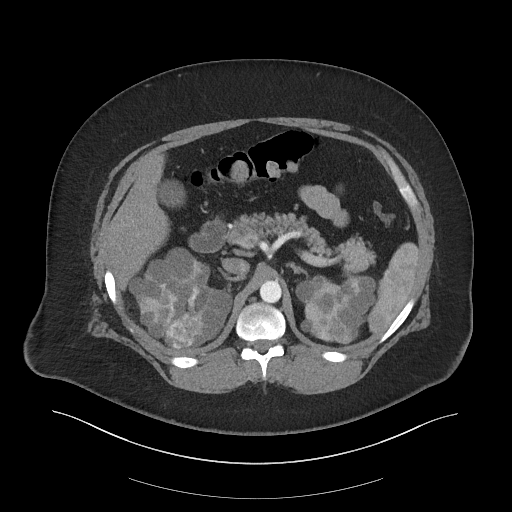Lesion: (167, 315, 203, 350)
